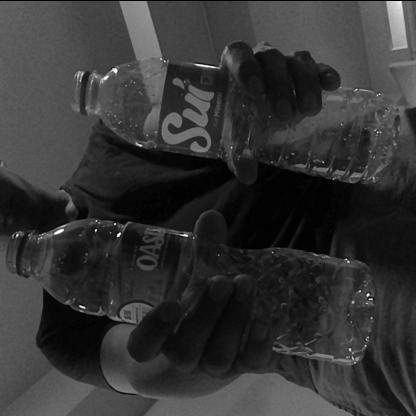plastic_bottles: (5, 221, 374, 367), (74, 56, 404, 186)
